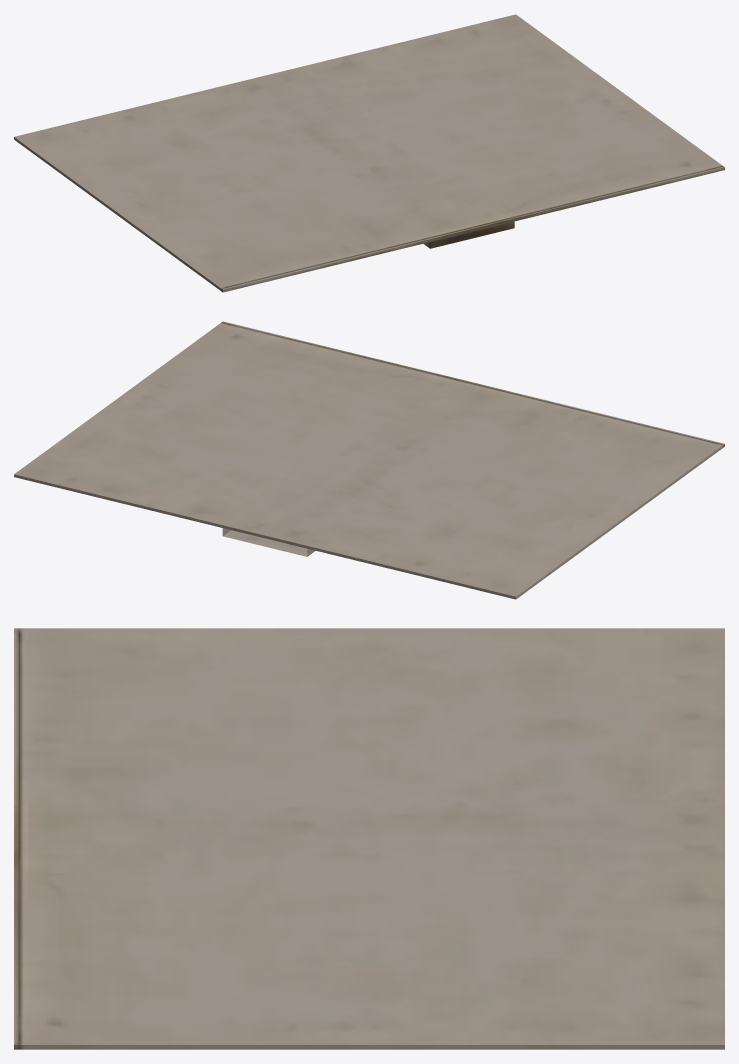
The model's file is link_3__drawer_bottom-127.glb.
The picture shows the model from 3 angles, top to bottom: view 1: azimuth 30°, elevation 25°; view 2: azimuth 150°, elevation 25°; view 3: azimuth 270°, elevation 25°; orthographic projection. The views are drawn at different scales.
Parts seen in each view (by area): view 1: geometry_0; view 2: geometry_0; view 3: geometry_0.
Boxes of the visible parts, x1,y1,x2,y2 form: geometry_0: [14, 14, 724, 292]; geometry_0: [14, 321, 724, 599]; geometry_0: [14, 628, 724, 1049].
Size of the model in its own units: 0.4989 by 0.0105 by 0.3597.
Materials: 1 (1 with a texture image).
